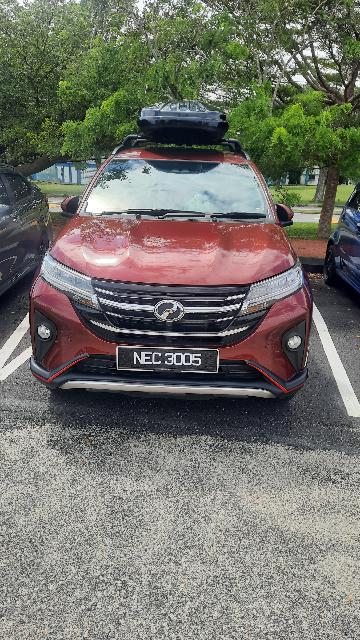License_Plate: (113, 344, 223, 380)
car: (24, 84, 326, 420)
